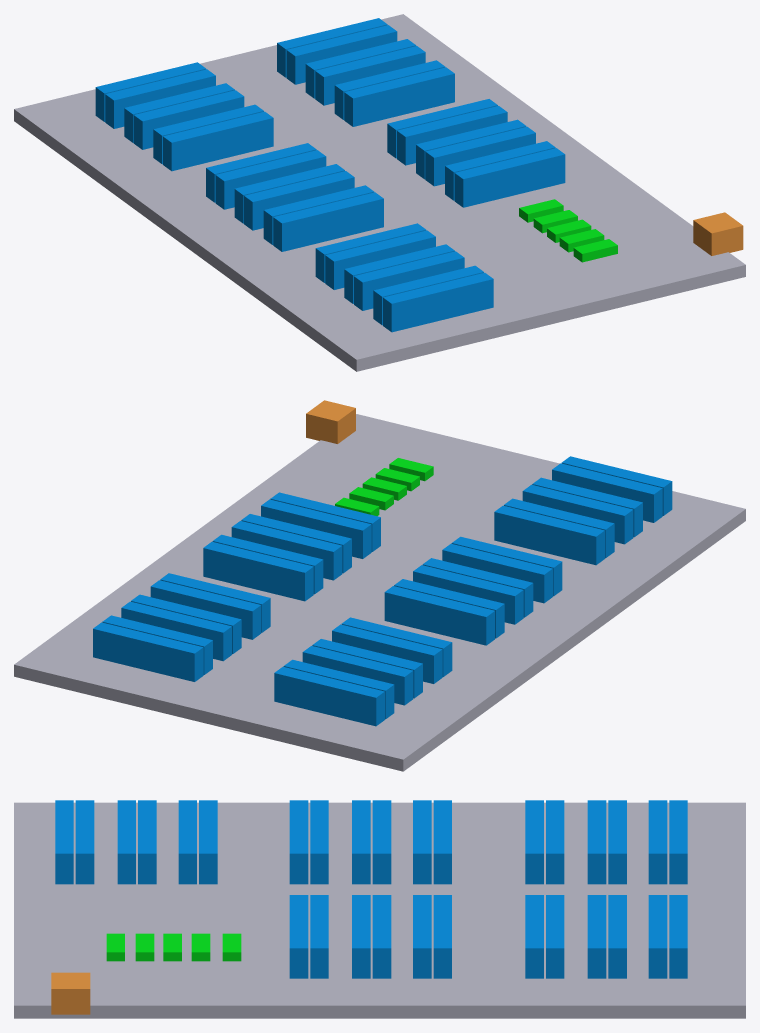
File: Naharn_3D.glb
The picture shows the model from 3 angles, top to bottom: view 1: azimuth 30°, elevation 25°; view 2: azimuth 150°, elevation 25°; view 3: azimuth 270°, elevation 25°; orthographic projection. The views are drawn at different scales.
Visible parts, largest first — view 1: Cube.001, Cube.003, Cube.004, Cube.002; view 2: Cube.001, Cube.003, Cube.004, Cube.002; view 3: Cube.001, Cube.003, Cube.004, Cube.002.
Part boxes in pixels (left/top/right/bottom): Cube.001: left=14, top=14, right=745, bottom=371; Cube.003: left=95, top=18, right=565, bottom=332; Cube.004: left=519, top=199, right=617, bottom=262; Cube.002: left=693, top=212, right=743, bottom=255; Cube.001: left=14, top=414, right=745, bottom=771; Cube.003: left=93, top=456, right=672, bottom=726; Cube.004: left=335, top=458, right=433, bottom=516; Cube.002: left=306, top=400, right=355, bottom=443; Cube.001: left=14, top=802, right=745, bottom=1018; Cube.003: left=55, top=800, right=687, bottom=978; Cube.004: left=106, top=933, right=241, bottom=961; Cube.002: left=51, top=972, right=90, bottom=1014.
Bounding box in the file's own units: 10.34 × 0.9929 × 15.17.
